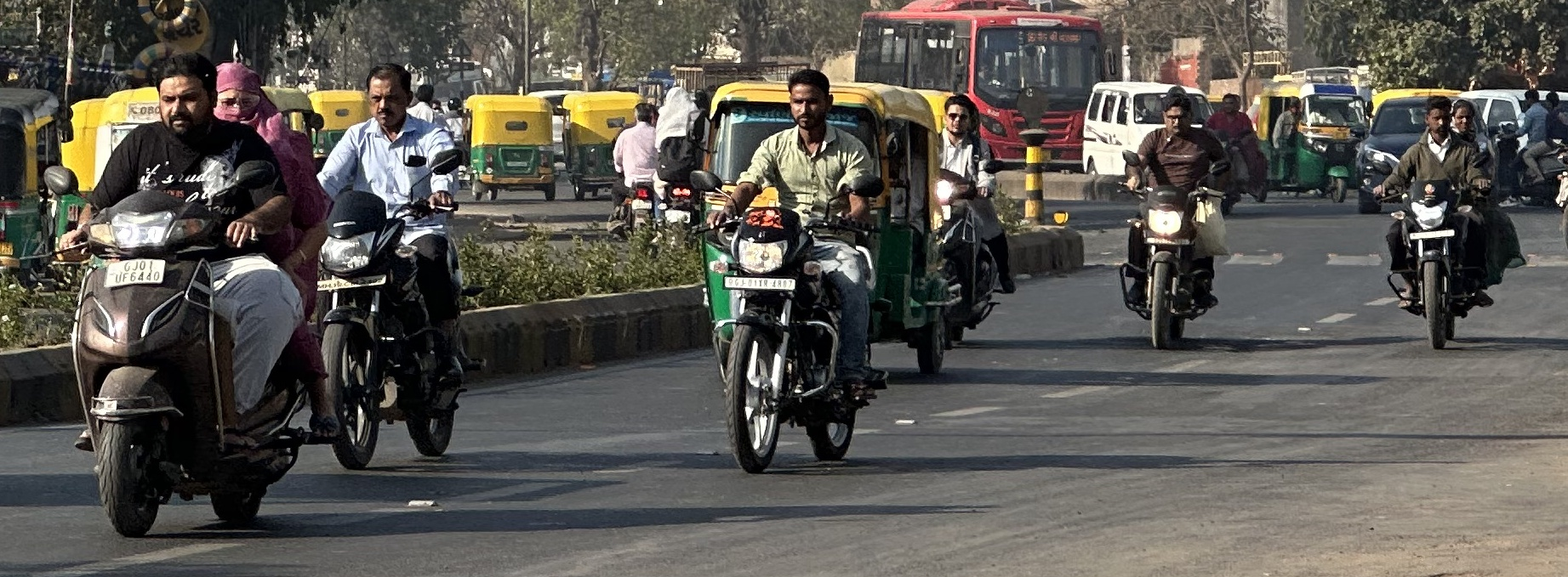BikeWithRider: (34, 45, 357, 539), (309, 54, 507, 473), (719, 54, 905, 497), (1084, 77, 1223, 364), (1374, 87, 1525, 339), (904, 69, 1031, 364), (648, 88, 714, 256), (613, 87, 675, 260)
NoHelmet: (142, 45, 219, 150), (351, 51, 421, 135), (210, 51, 278, 133), (783, 71, 851, 144), (937, 95, 984, 146), (1155, 91, 1198, 139), (1417, 96, 1461, 139), (1448, 93, 1491, 133)
